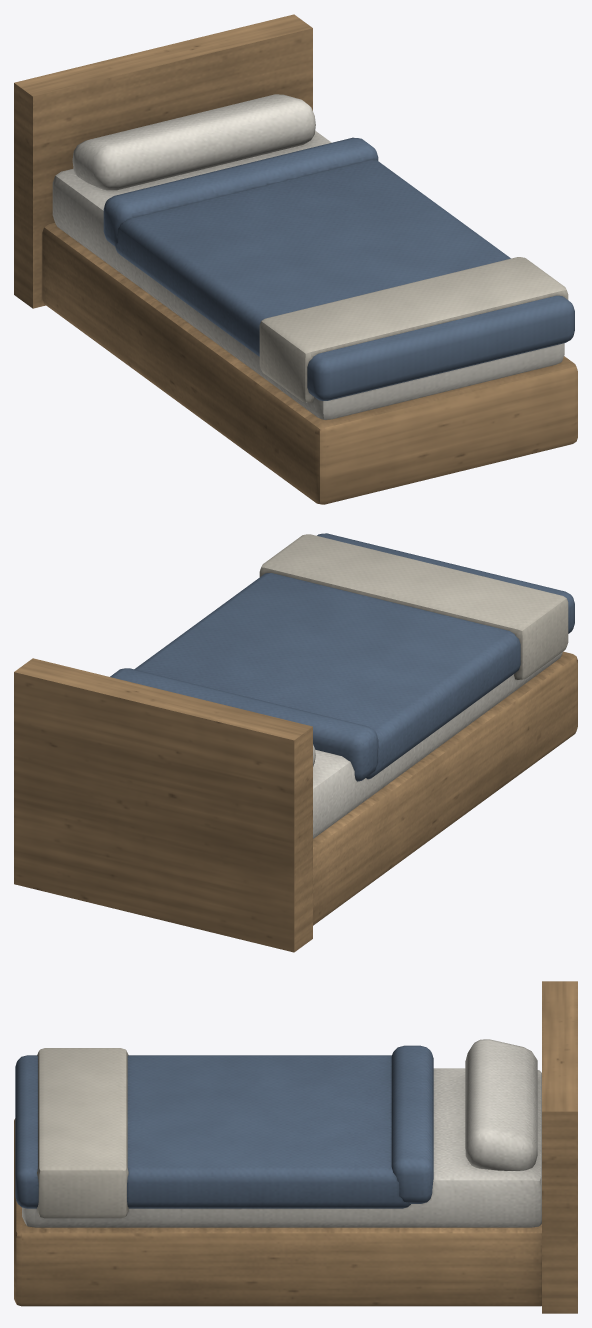
The model's file is H_Bed_Single.fbx.
3 renders of one model, top to bottom at view 1: azimuth 30°, elevation 25°; view 2: azimuth 150°, elevation 25°; view 3: azimuth 270°, elevation 25°, orthographic. The views are drawn at different scales.
Parts seen in each view (by area): view 1: H_Bed_Single; view 2: H_Bed_Single; view 3: H_Bed_Single.
Boxes of the visible parts, x1,y1,x2,y2 form: H_Bed_Single: (14,14,577,504); H_Bed_Single: (14,533,577,952); H_Bed_Single: (14,981,577,1313).
Bounding box in the file's own units: 470 × 340 × 860.
1 material, 1 textured.
